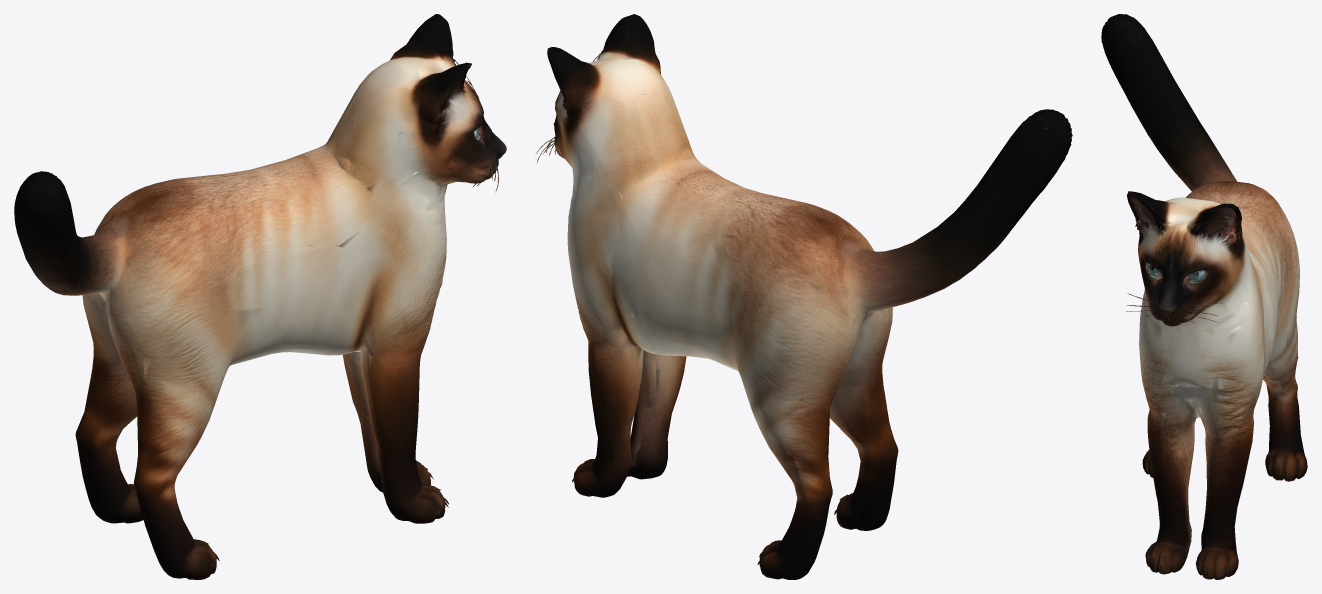
File: FDCW.glb
3 renders of one model, left to right at view 1: azimuth 30°, elevation 25°; view 2: azimuth 150°, elevation 25°; view 3: azimuth 270°, elevation 25°, orthographic. The views are drawn at different scales.
Visible parts, largest first — view 1: fit; view 2: fit; view 3: fit.
Boxes of the visible parts, x1,y1,x2,y2 form: fit: [14, 14, 506, 579]; fit: [535, 14, 1072, 579]; fit: [1101, 14, 1307, 579].
Size of the model in its own units: 1.17 by 1 by 0.4851.
1 material, 1 textured.
